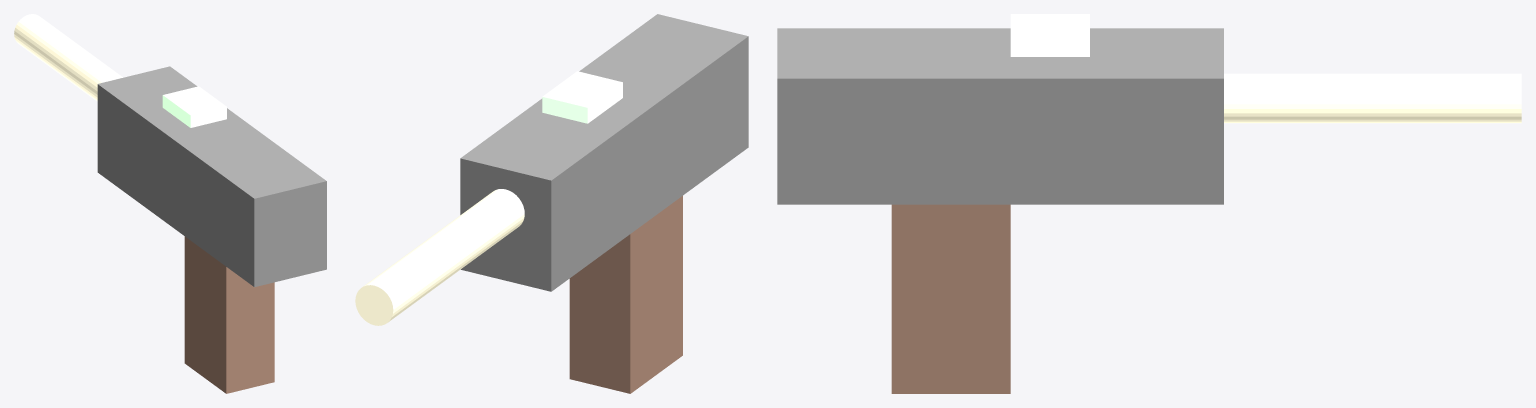
The model's file is raygun.glb.
3 views of the same model, side by side, from view 1: azimuth 30°, elevation 25°; view 2: azimuth 150°, elevation 25°; view 3: azimuth 270°, elevation 25° (orthographic). The views are drawn at different scales.
Visible parts, largest first — view 1: SB_GunBody, SB_GunGrip, SB_GunBarrel, SB_GunScreen; view 2: SB_GunBody, SB_GunGrip, SB_GunBarrel, SB_GunScreen; view 3: SB_GunBody, SB_GunGrip, SB_GunBarrel, SB_GunScreen.
Boxes of the visible parts, box(x1,y1,x2,y2) form: SB_GunBody: box(97, 66, 326, 287); SB_GunGrip: box(184, 236, 274, 393); SB_GunBarrel: box(14, 14, 122, 101); SB_GunScreen: box(162, 86, 226, 127); SB_GunBody: box(460, 14, 748, 291); SB_GunGrip: box(569, 196, 682, 393); SB_GunBarrel: box(355, 189, 524, 325); SB_GunScreen: box(542, 71, 622, 123); SB_GunBody: box(777, 28, 1223, 204); SB_GunGrip: box(891, 204, 1010, 393); SB_GunBarrel: box(1224, 73, 1521, 123); SB_GunScreen: box(1010, 14, 1089, 56).
Bounding box in the file's own units: 0.12 × 0.39 × 0.75.
